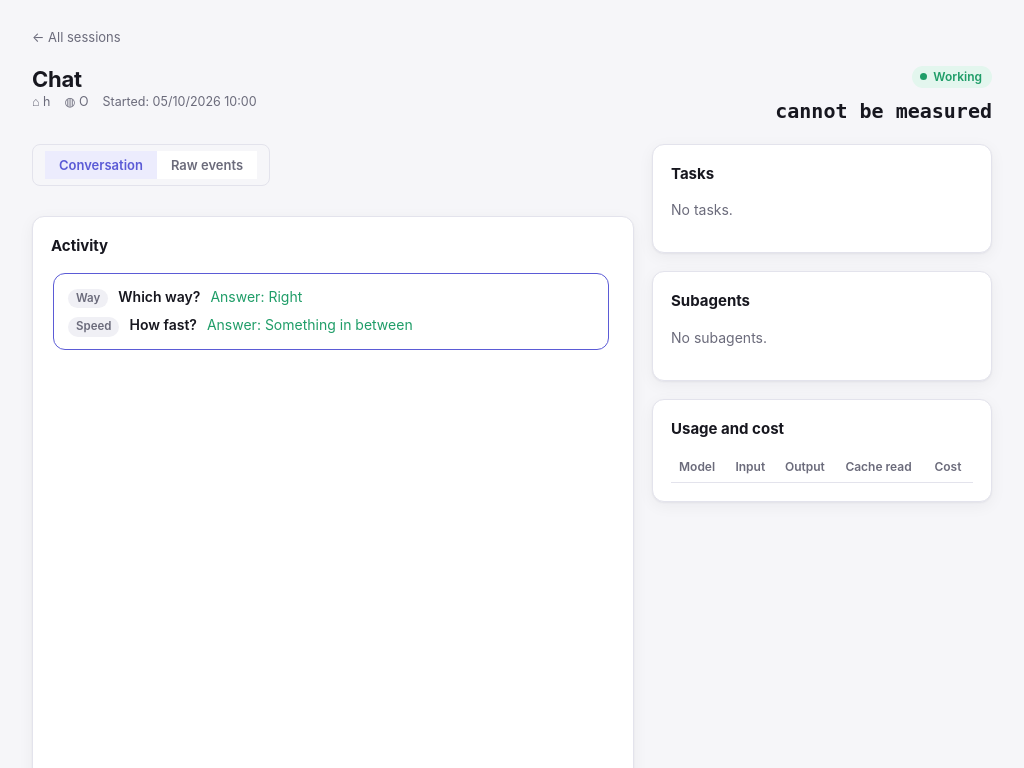
Test: questions in the conversation › closes to the questions and what was chosen, and opens to every option
The image size is (1024, 768).
Expected: the text "Which way?" is shown, [118,286,200,307]
Expected: the text "Answer: Right" is shown, [210,286,302,307]
What coordinates should you click on to do the following:
click the heading that starts with "Way"
I would click on:
 (88, 299)
Its box is [68,288,413,336].
(page scrolled)
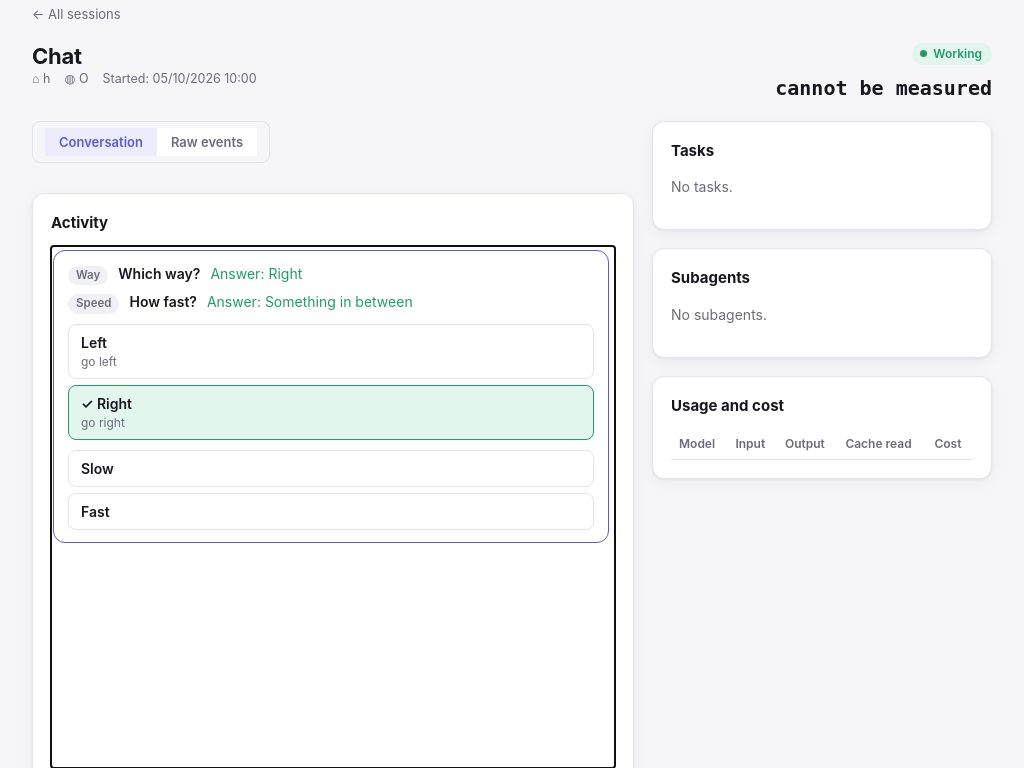
Now the text "go left" is shown, box [81,354,117,368]
Now the text "go right" is shown, box [81,414,125,430]
Now the text "✓ Right" is shown, box [81,394,132,412]
